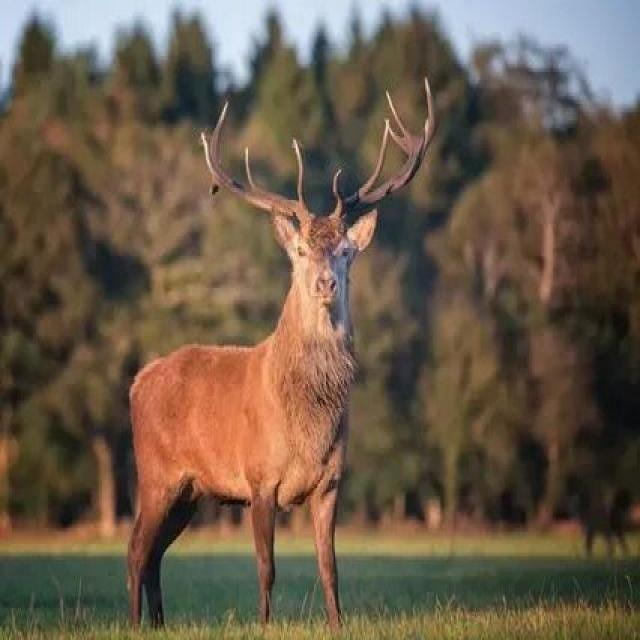deer: (119, 95, 411, 564)
